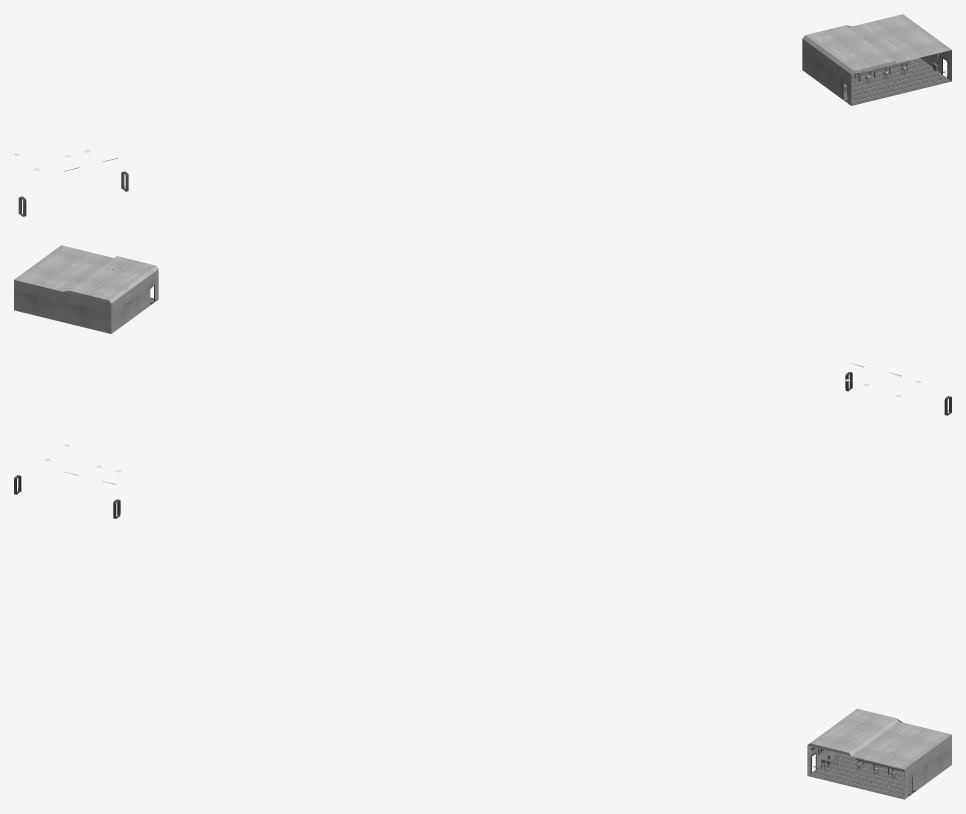
The model's file is MSH_Bar_room_L1_R2.fbx.
The picture shows the model from 3 angles, top to bottom: view 1: azimuth 30°, elevation 25°; view 2: azimuth 150°, elevation 25°; view 3: azimuth 330°, elevation 25°; orthographic projection. The views are drawn at different scales.
Parts seen in each view (by area): view 1: MSH_Bar_room_L1_R2_Walls, MSH_Bar_room_L1_R2 1; view 2: MSH_Bar_room_L1_R2_Walls; view 3: MSH_Bar_room_L1_R2_Walls.
Boxes of the visible parts, x1=… form: MSH_Bar_room_L1_R2_Walls: x1=802, y1=14, x2=951, y2=105; MSH_Bar_room_L1_R2 1: x1=818, y1=39, x2=941, y2=96; MSH_Bar_room_L1_R2_Walls: x1=14, y1=245, x2=158, y2=333; MSH_Bar_room_L1_R2_Walls: x1=807, y1=708, x2=951, y2=799.
Size of the model in its own units: 181 by 22.5 by 16.54.
